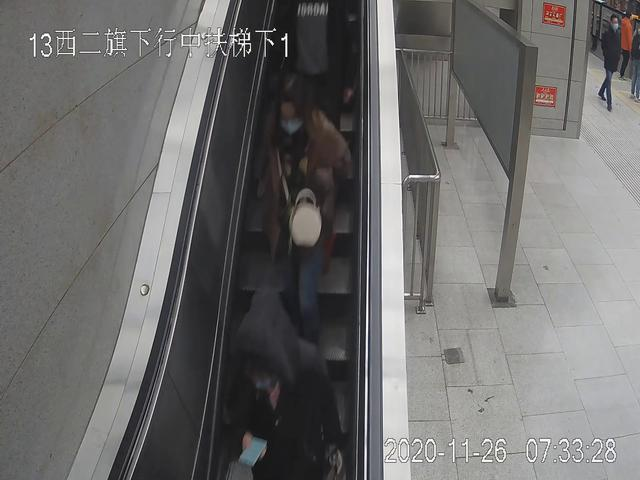person: (254, 95, 354, 357), (227, 292, 342, 479), (599, 15, 622, 110)
